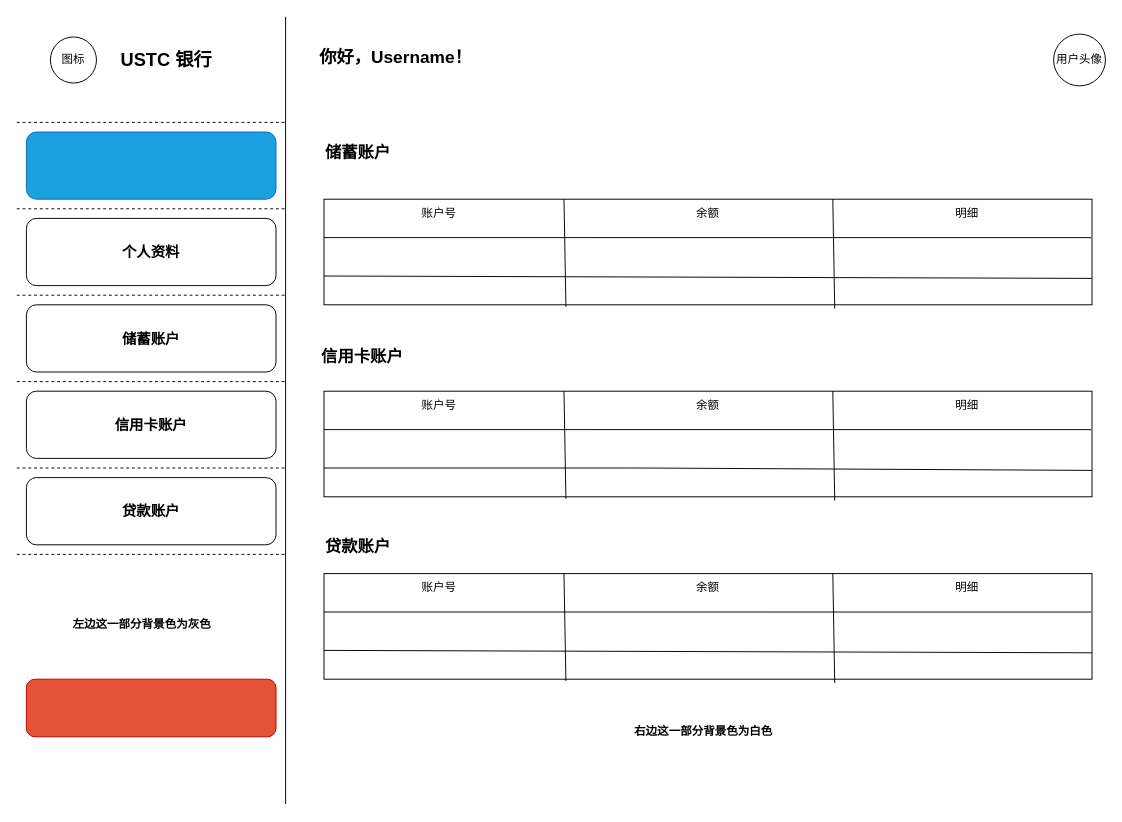
Some shapes in this 1122 by 822 pixel diagram are drawn without their labels. The centre of each missing label's shape, as x and y in pixels:
仪表盘: the point at 150,165
登出: the point at 150,707
